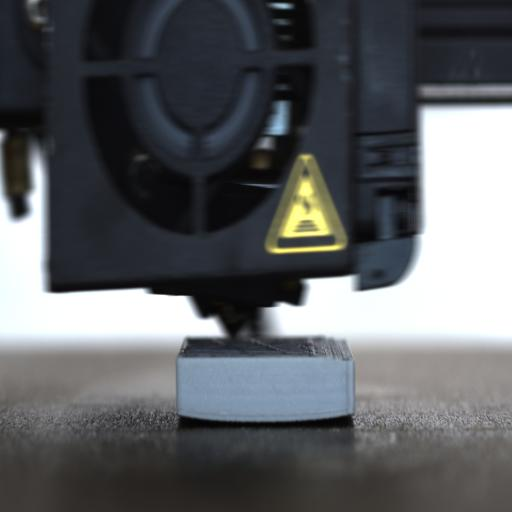warp: (294, 398, 360, 430), (173, 402, 231, 430)
